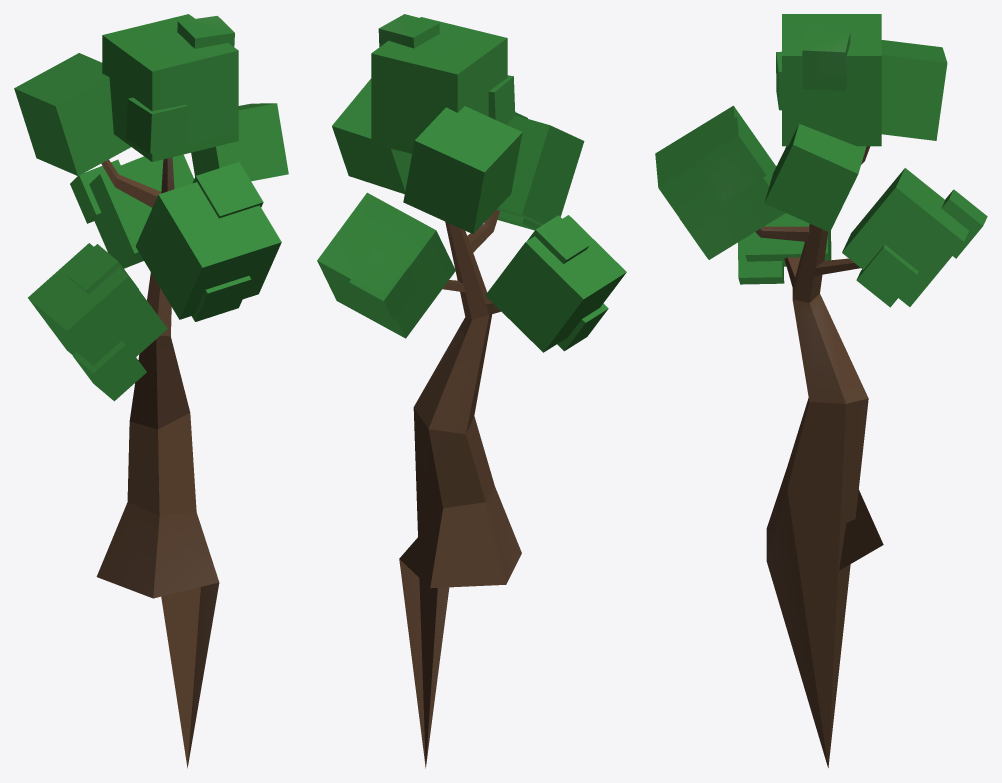
The model's file is tree_04_v1.gltf.
3 views of the same model, side by side, from view 1: azimuth 30°, elevation 25°; view 2: azimuth 150°, elevation 25°; view 3: azimuth 270°, elevation 25° (orthographic).
Parts seen in each view (by area): view 1: Tree_04; view 2: Tree_04; view 3: Tree_04.
Part boxes in pixels (bbox=[...]): Tree_04: bbox=[14, 14, 288, 768]; Tree_04: bbox=[317, 14, 626, 768]; Tree_04: bbox=[655, 14, 987, 767].
Bounding box in the file's own units: 1.84 × 5.42 × 2.21.
